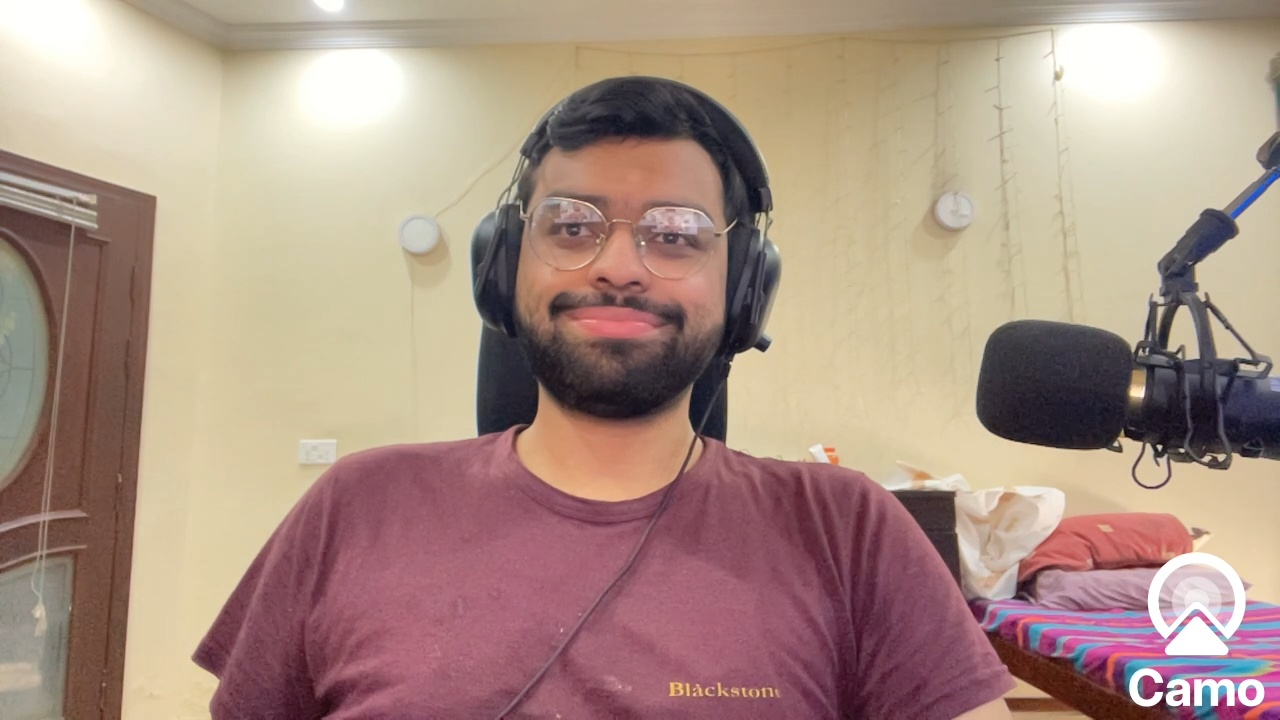happy: (535, 137, 719, 409)
